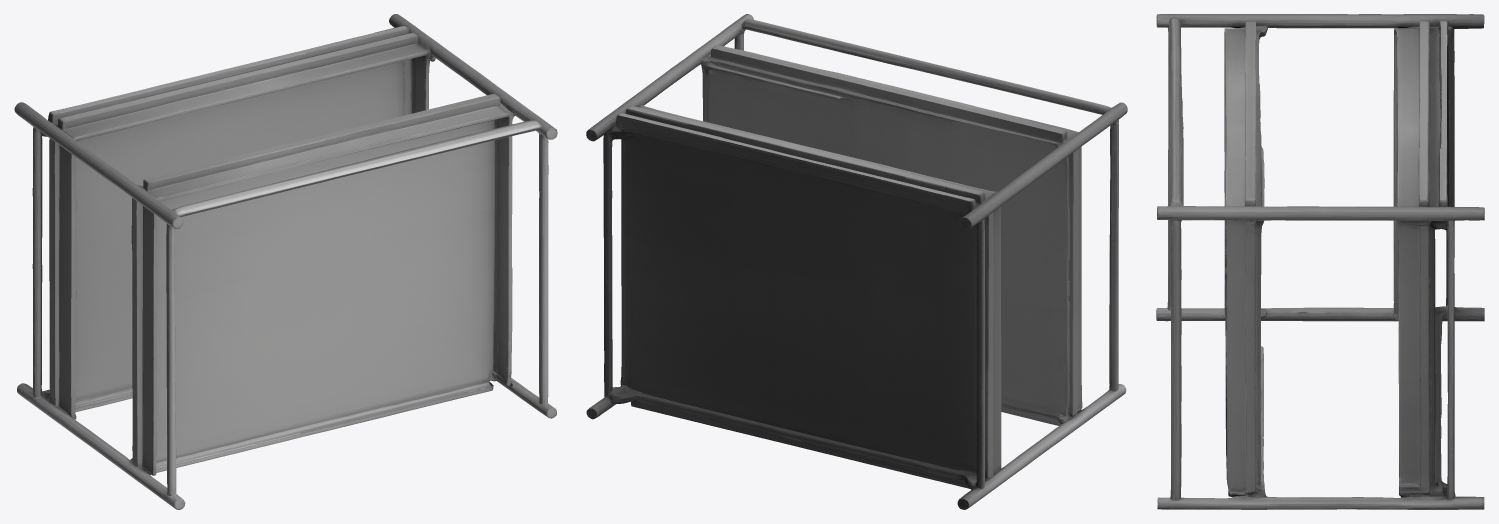
File: new_rack_visual_0.obj
3 renders of one model, left to right at view 1: azimuth 30°, elevation 25°; view 2: azimuth 150°, elevation 25°; view 3: azimuth 270°, elevation 25°, orthographic. The views are drawn at different scales.
Bounding box in the file's own units: 0.9971 × 0.7293 × 0.7074.
1 material, 1 textured.
